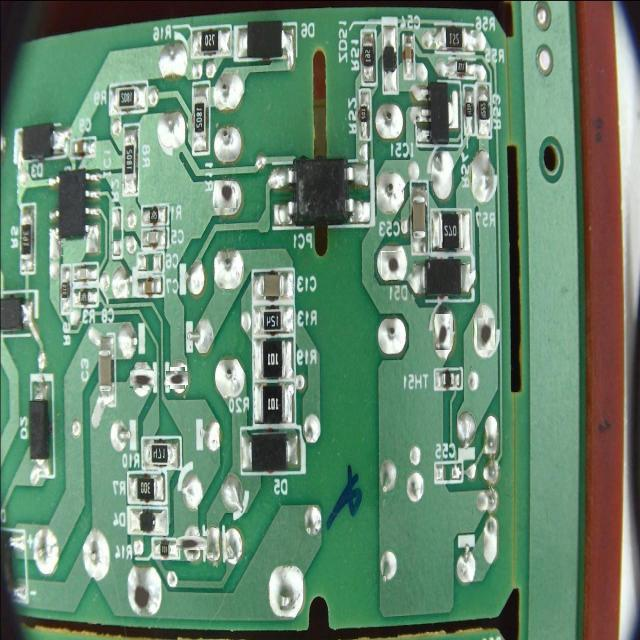damged: (214, 180, 237, 208), (434, 314, 450, 350), (477, 318, 495, 350), (131, 582, 151, 610), (179, 532, 203, 554), (131, 367, 153, 389), (381, 251, 401, 274), (168, 369, 187, 387)
